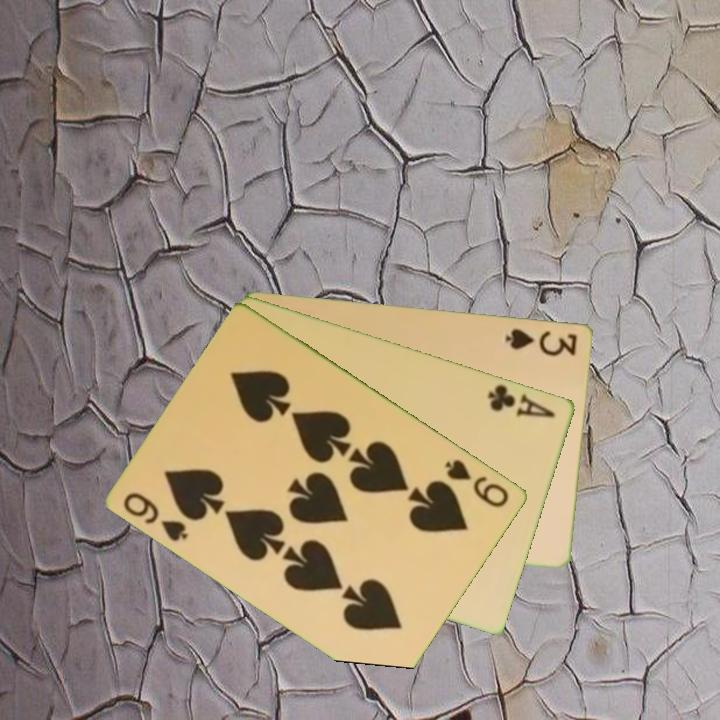3s: (502, 325, 581, 358)
9s: (120, 488, 192, 544), (441, 455, 512, 511)
Ac: (484, 380, 560, 421)
